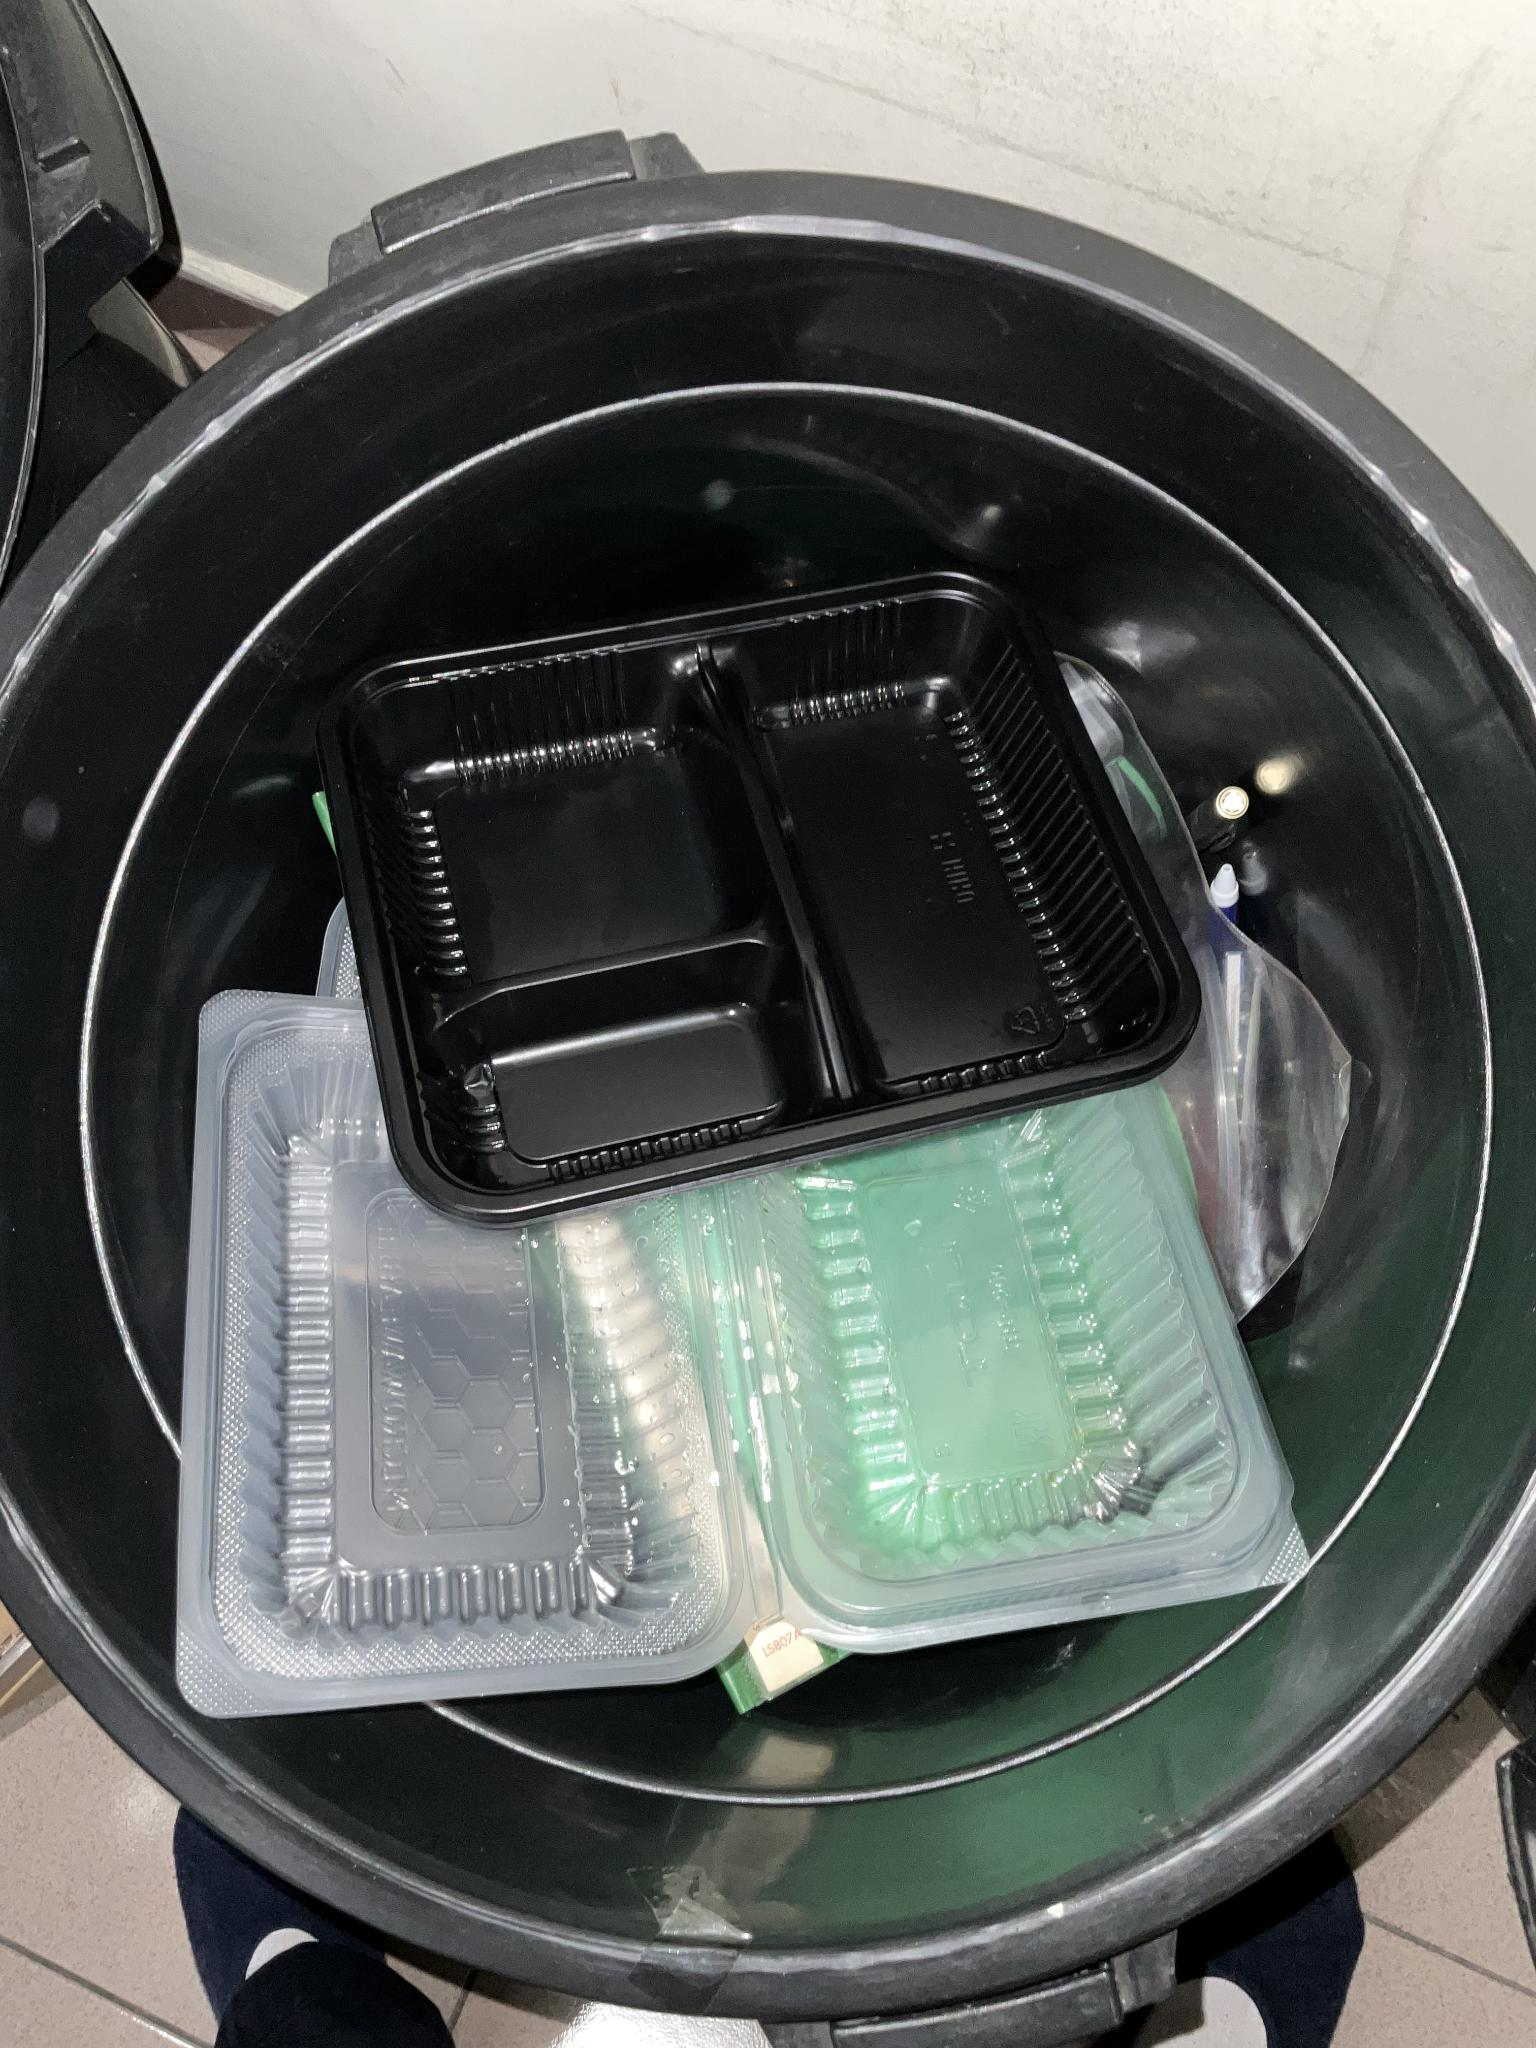plastic: (179, 993, 1300, 1714), (329, 572, 1181, 1197)
